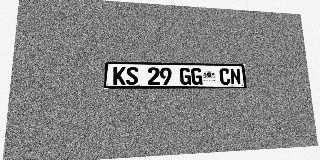plate: (104, 61, 247, 89)
